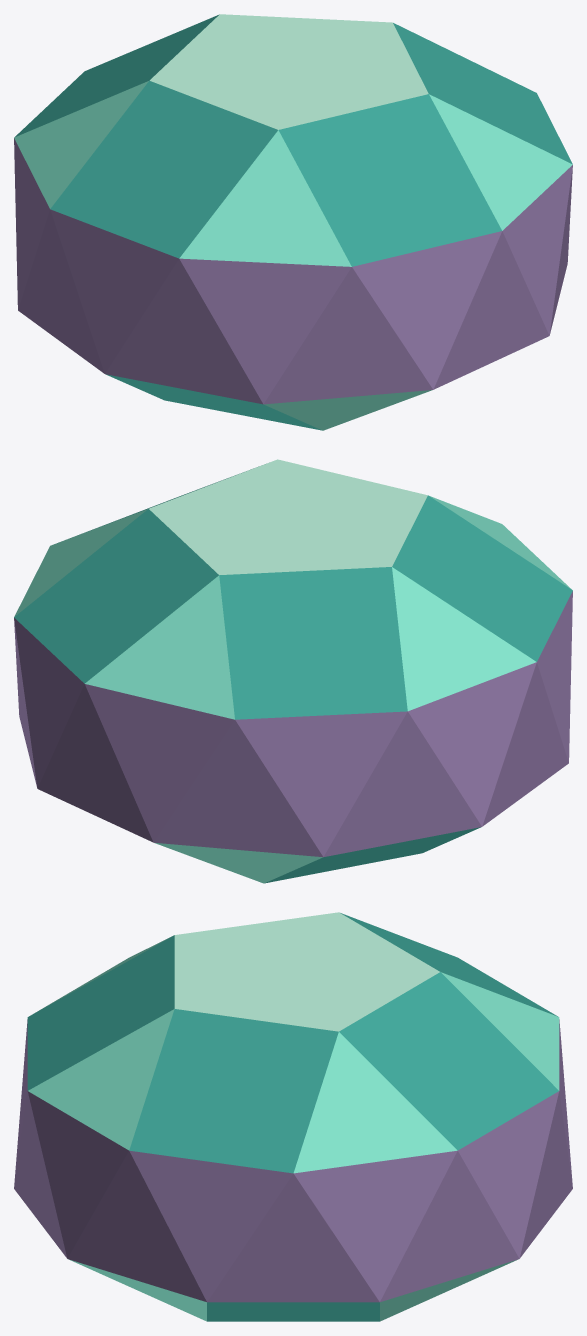
File: J46.BicupulaPentagonalGiroelongada.gltf
The picture shows the model from 3 angles, top to bottom: view 1: azimuth 30°, elevation 25°; view 2: azimuth 150°, elevation 25°; view 3: azimuth 270°, elevation 25°; orthographic projection.
Parts seen in each view (by area): view 1: J46.BicupulaPentagonalGiroelongada; view 2: J46.BicupulaPentagonalGiroelongada; view 3: J46.BicupulaPentagonalGiroelongada.
Part boxes in pixels (x1=…): J46.BicupulaPentagonalGiroelongada: x1=14, y1=14, x2=572, y2=430; J46.BicupulaPentagonalGiroelongada: x1=14, y1=459, x2=572, y2=883; J46.BicupulaPentagonalGiroelongada: x1=14, y1=912, x2=572, y2=1321.
Size of the model in its own units: 19.33 by 11.47 by 19.33.
